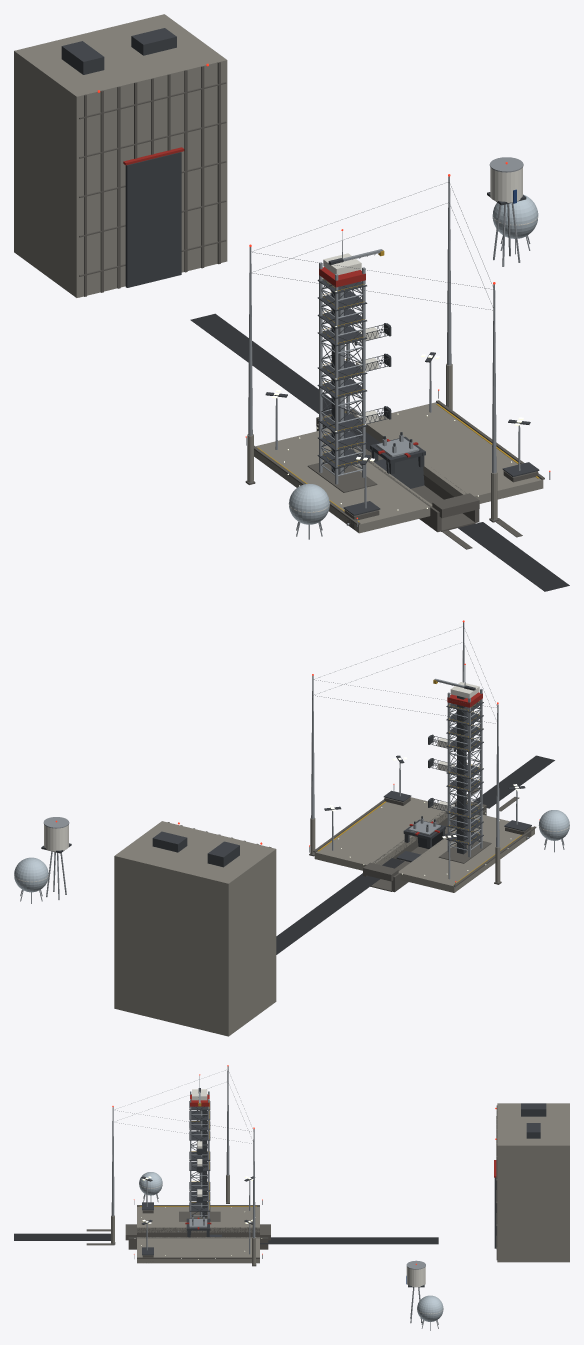
Rendered from launch_complex.glb.
3 renders of one model, top to bottom at view 1: azimuth 30°, elevation 25°; view 2: azimuth 150°, elevation 25°; view 3: azimuth 270°, elevation 25°, orthographic. The views are drawn at different scales.
Visible parts, largest first — view 1: LC_Static; view 2: LC_Static; view 3: LC_Static.
Boxes of the visible parts, x1,y1,x2,y2 form: LC_Static: [14, 14, 569, 591]; LC_Static: [14, 620, 569, 1036]; LC_Static: [14, 1065, 569, 1330].
Bounding box in the file's own units: 232 × 130 × 398.
